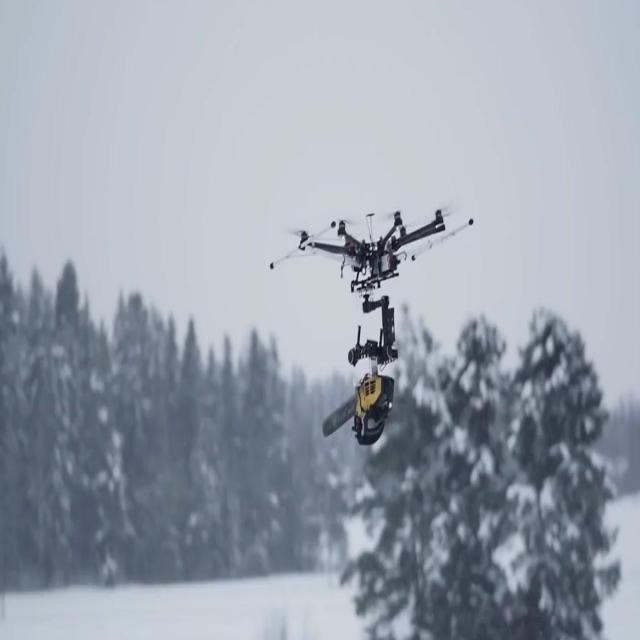UAV: (270, 200, 474, 293)
